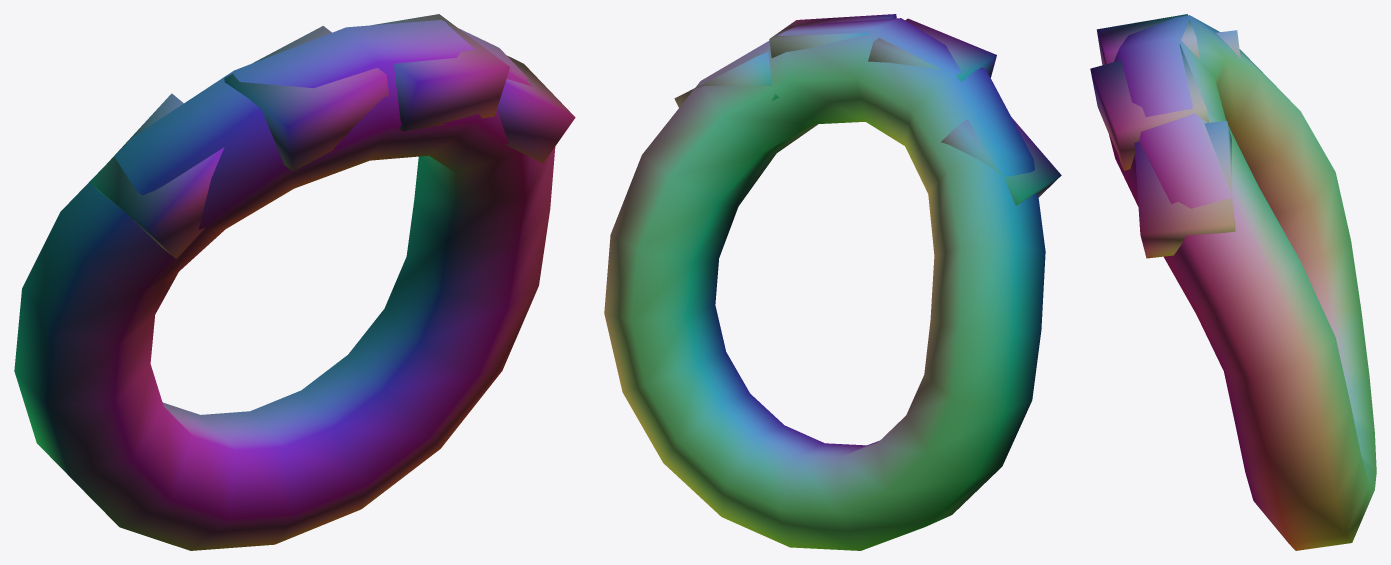
The model's file is SM_Mon_Bonegorger_Att_TagNecklace.fbx.
3 views of the same model, side by side, from view 1: azimuth 30°, elevation 25°; view 2: azimuth 150°, elevation 25°; view 3: azimuth 270°, elevation 25° (orthographic). The views are drawn at different scales.
Parts seen in each view (by area): view 1: SM_Mon_Bonegorger_Att_TagNecklace; view 2: SM_Mon_Bonegorger_Att_TagNecklace; view 3: SM_Mon_Bonegorger_Att_TagNecklace.
Boxes of the visible parts, x1,y1,x2,y2 form: SM_Mon_Bonegorger_Att_TagNecklace: [14, 14, 575, 550]; SM_Mon_Bonegorger_Att_TagNecklace: [604, 14, 1061, 550]; SM_Mon_Bonegorger_Att_TagNecklace: [1090, 14, 1376, 550].
Size of the model in its own units: 0.2156 by 0.2353 by 0.1246.
